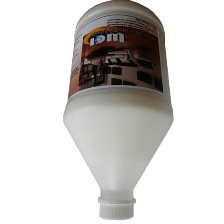cleaning_solution: (60, 0, 176, 222)
